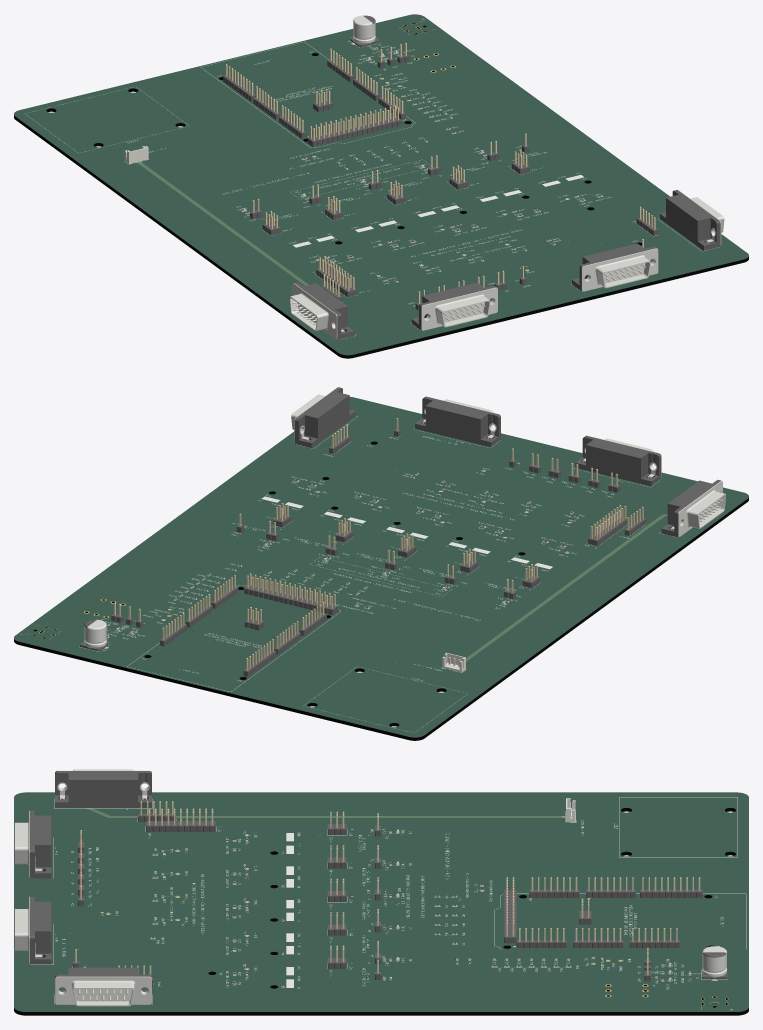
Rendered from backplane.glb.
3 renders of one model, top to bottom at view 1: azimuth 30°, elevation 25°; view 2: azimuth 150°, elevation 25°; view 3: azimuth 270°, elevation 25°, orthographic. The views are drawn at different scales.
Visible parts, largest first — view 1: backplane_visual_layers_4, backplane_visual_layers_1, backplane_visual_layers_7, B-J4, A-J3, J5, J1, A1_9_VISUAL, JA1_VISUAL, backplane_visual_layers_2, C1, A1_7_VISUAL; view 2: backplane_visual_layers_4, backplane_visual_layers_1, backplane_visual_layers_7, B-J4, A-J3, J5, J1, A1_9_VISUAL, JA1_VISUAL, backplane_visual_layers_2, C1, A1_7_VISUAL; view 3: backplane_visual_layers_4, backplane_visual_layers_1, backplane_visual_layers_7, J1, J5, A-J3, B-J4, backplane_visual_layers_2, JA1_VISUAL, C1, A1_7_VISUAL, A1_9_VISUAL (+6 smaller).
Boxes of the visible parts, x1,y1,x2,y2 form: backplane_visual_layers_4: [14, 14, 748, 355]; backplane_visual_layers_1: [14, 15, 748, 358]; backplane_visual_layers_7: [27, 18, 719, 339]; B-J4: [572, 243, 658, 291]; A-J3: [411, 282, 497, 330]; J5: [660, 189, 724, 250]; J1: [289, 282, 354, 340]; A1_9_VISUAL: [307, 105, 401, 146]; JA1_VISUAL: [316, 256, 357, 297]; backplane_visual_layers_2: [140, 23, 601, 284]; C1: [349, 15, 379, 46]; A1_7_VISUAL: [223, 64, 255, 101]; backplane_visual_layers_4: [14, 396, 748, 737]; backplane_visual_layers_1: [14, 397, 748, 740]; backplane_visual_layers_7: [20, 416, 677, 731]; B-J4: [415, 396, 500, 447]; A-J3: [575, 435, 661, 486]; J5: [291, 387, 355, 447]; J1: [661, 479, 725, 537]; A1_9_VISUAL: [244, 573, 338, 614]; JA1_VISUAL: [588, 505, 627, 545]; backplane_visual_layers_2: [33, 443, 666, 660]; C1: [80, 619, 110, 650]; A1_7_VISUAL: [243, 639, 276, 676]; backplane_visual_layers_4: [14, 792, 748, 1011]; backplane_visual_layers_1: [14, 793, 748, 1015]; backplane_visual_layers_7: [30, 797, 746, 1010]; J1: [55, 769, 151, 807]; J5: [55, 967, 151, 1006]; A-J3: [14, 810, 51, 878]; B-J4: [14, 896, 51, 964]; backplane_visual_layers_2: [70, 809, 728, 1004]; JA1_VISUAL: [146, 808, 215, 831]; C1: [702, 946, 727, 980]; A1_7_VISUAL: [640, 877, 702, 897]; A1_9_VISUAL: [504, 877, 516, 943].
Size of the model in its own units: 0.21 by 0.0179 by 0.297.
